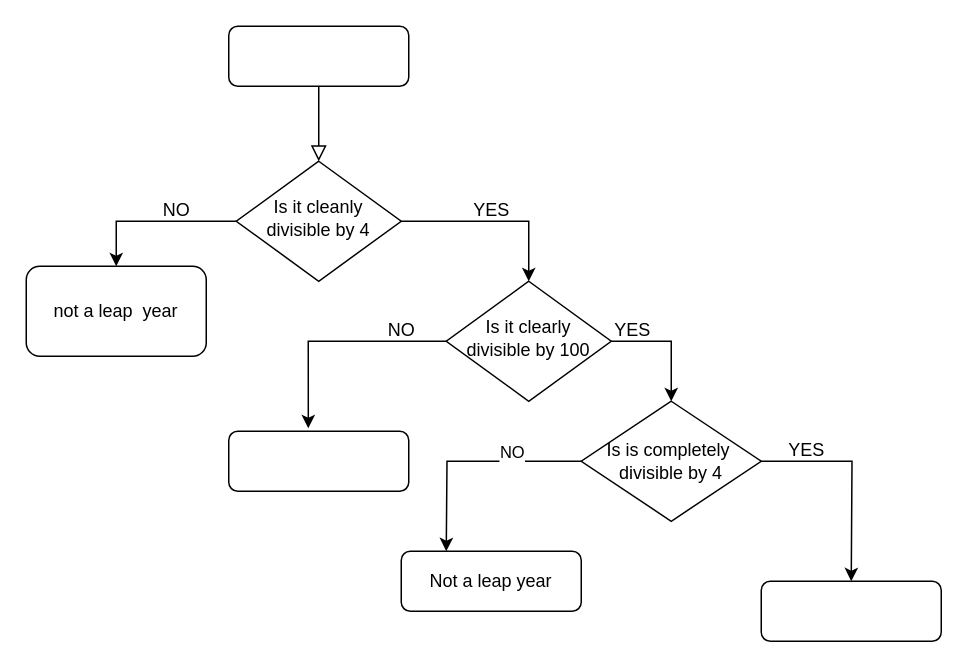
Some shapes in this 968 by 668 pixel diagram are drawn without their labels. The centre of each missing label's shape, as x and y in pixels:
"Leap" belongs at pixel 318 460.
"START" belongs at pixel 318 55.
"t's a leap year" belongs at pixel 850 610.
